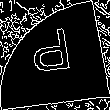P_S: (30, 27, 80, 83)
